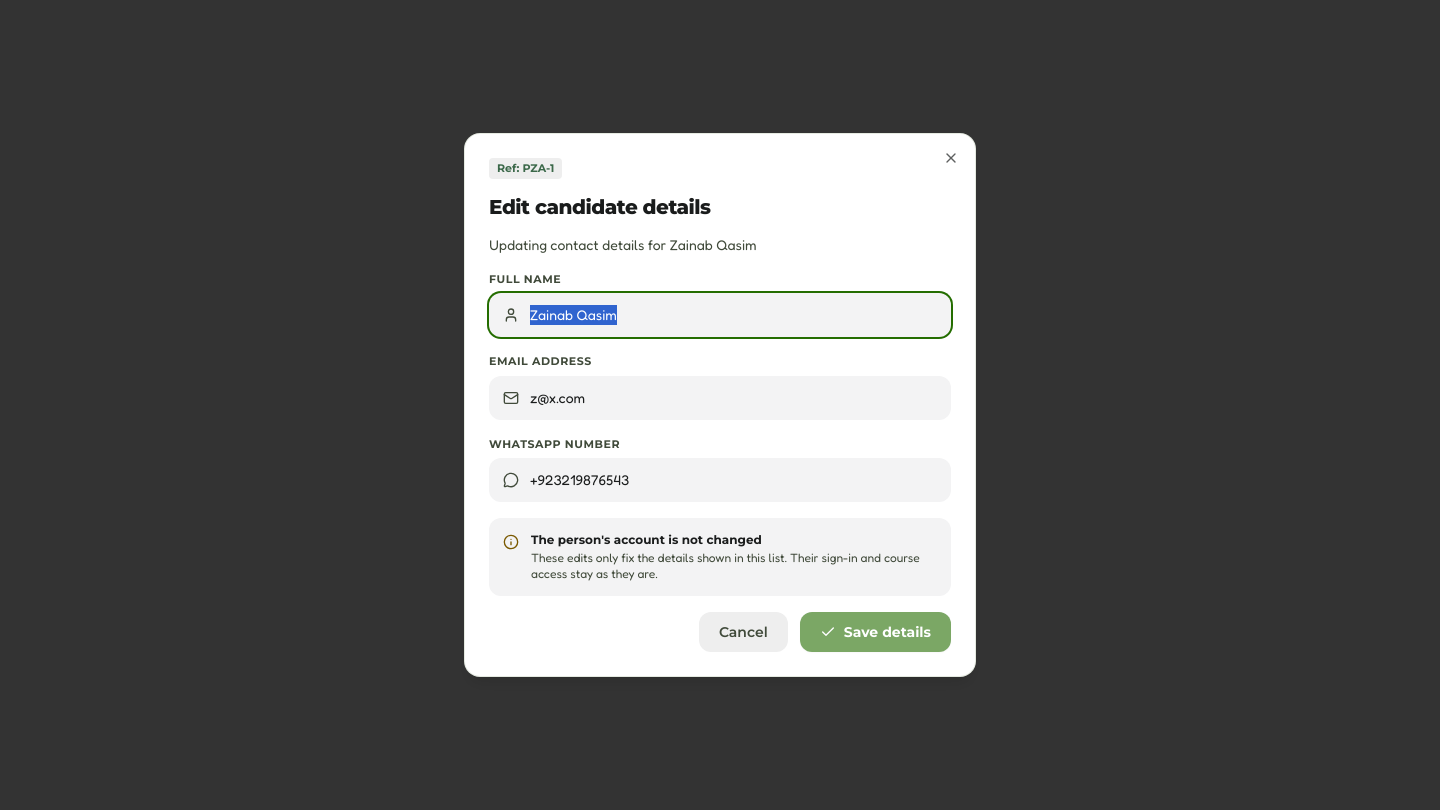
Test: edit details dialog › shows the 409 and 422 text and stays open
Replace the text in the field labelled "Email address" with "dup@x.com". click: (720, 398)
box: [489,376,951,420]
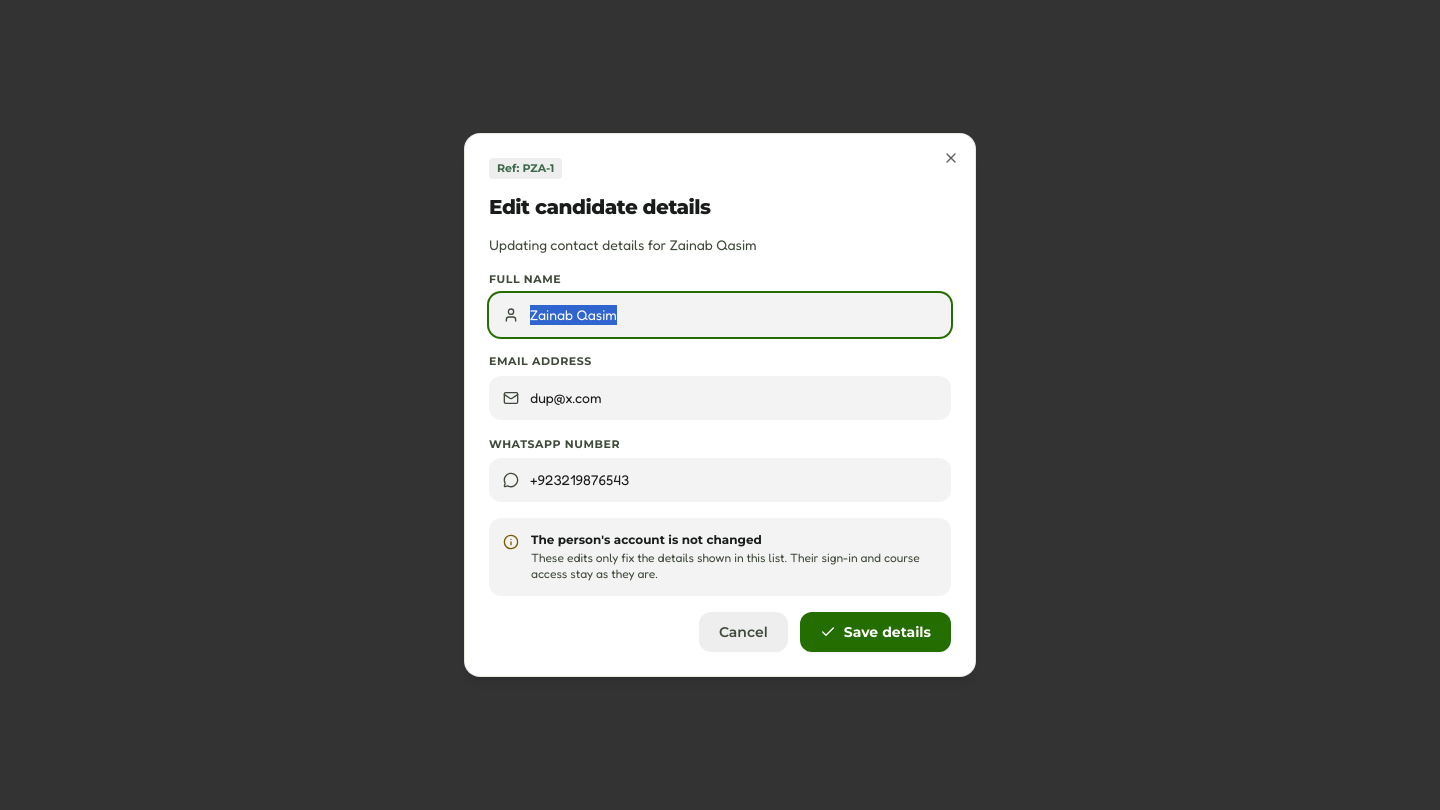
Click the button "Save details". click: (875, 632)
box: [800,612,951,652]
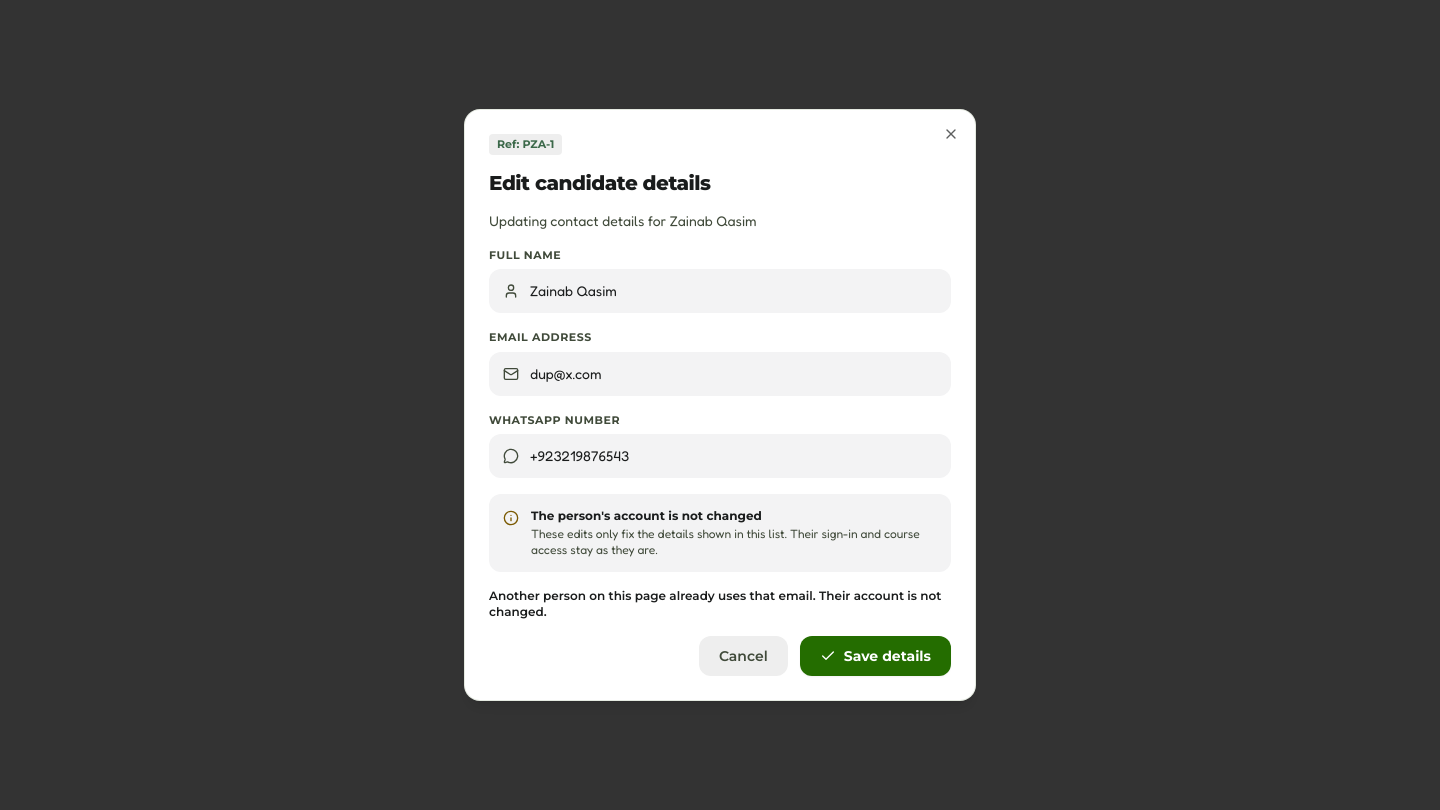
Check: the message shows "Another person on this page already uses that email", box [489,588,941,619]
Click the button "Save details". click: (875, 656)
box: [800,636,951,676]
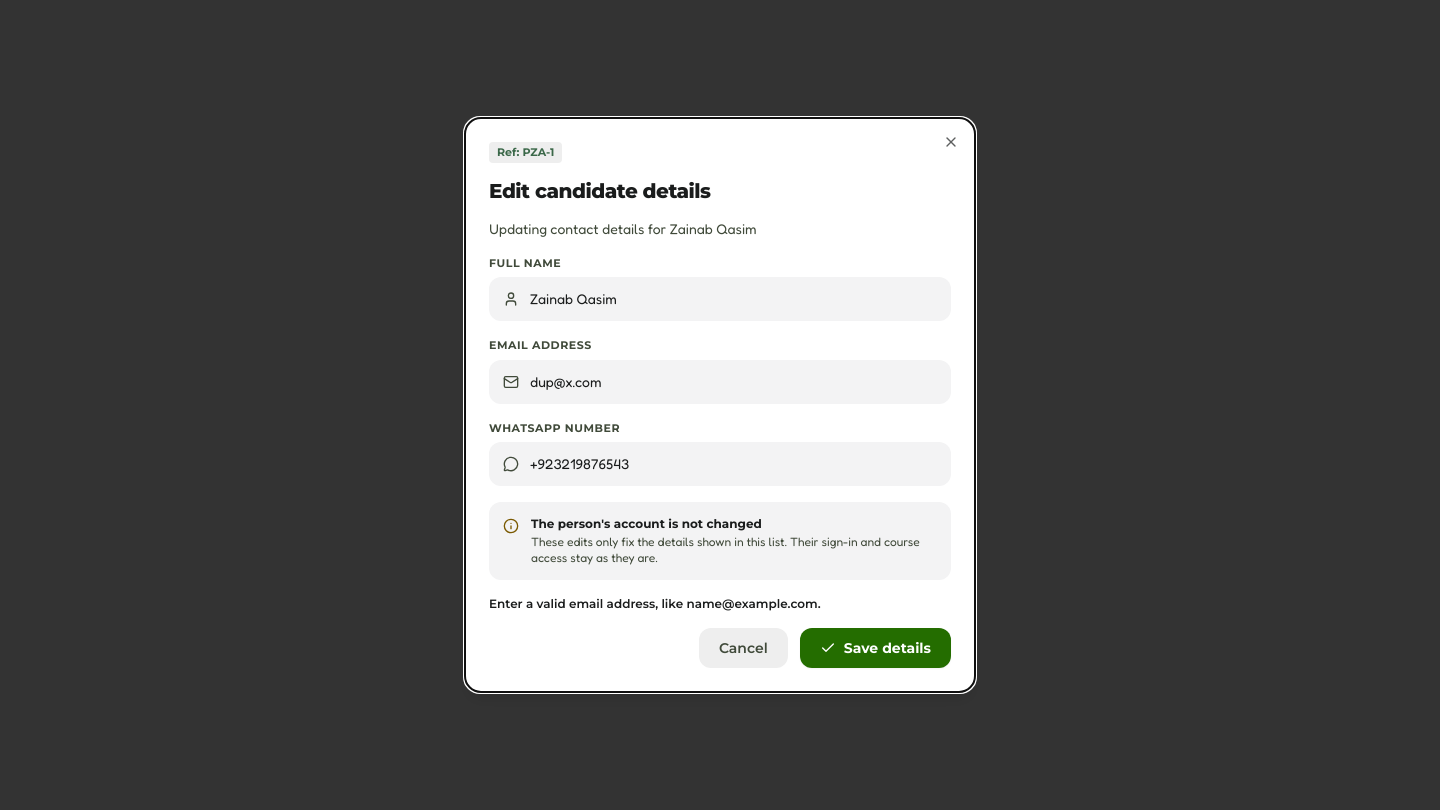
Check: the message shows "Enter a valid email address", box [489,596,821,611]
